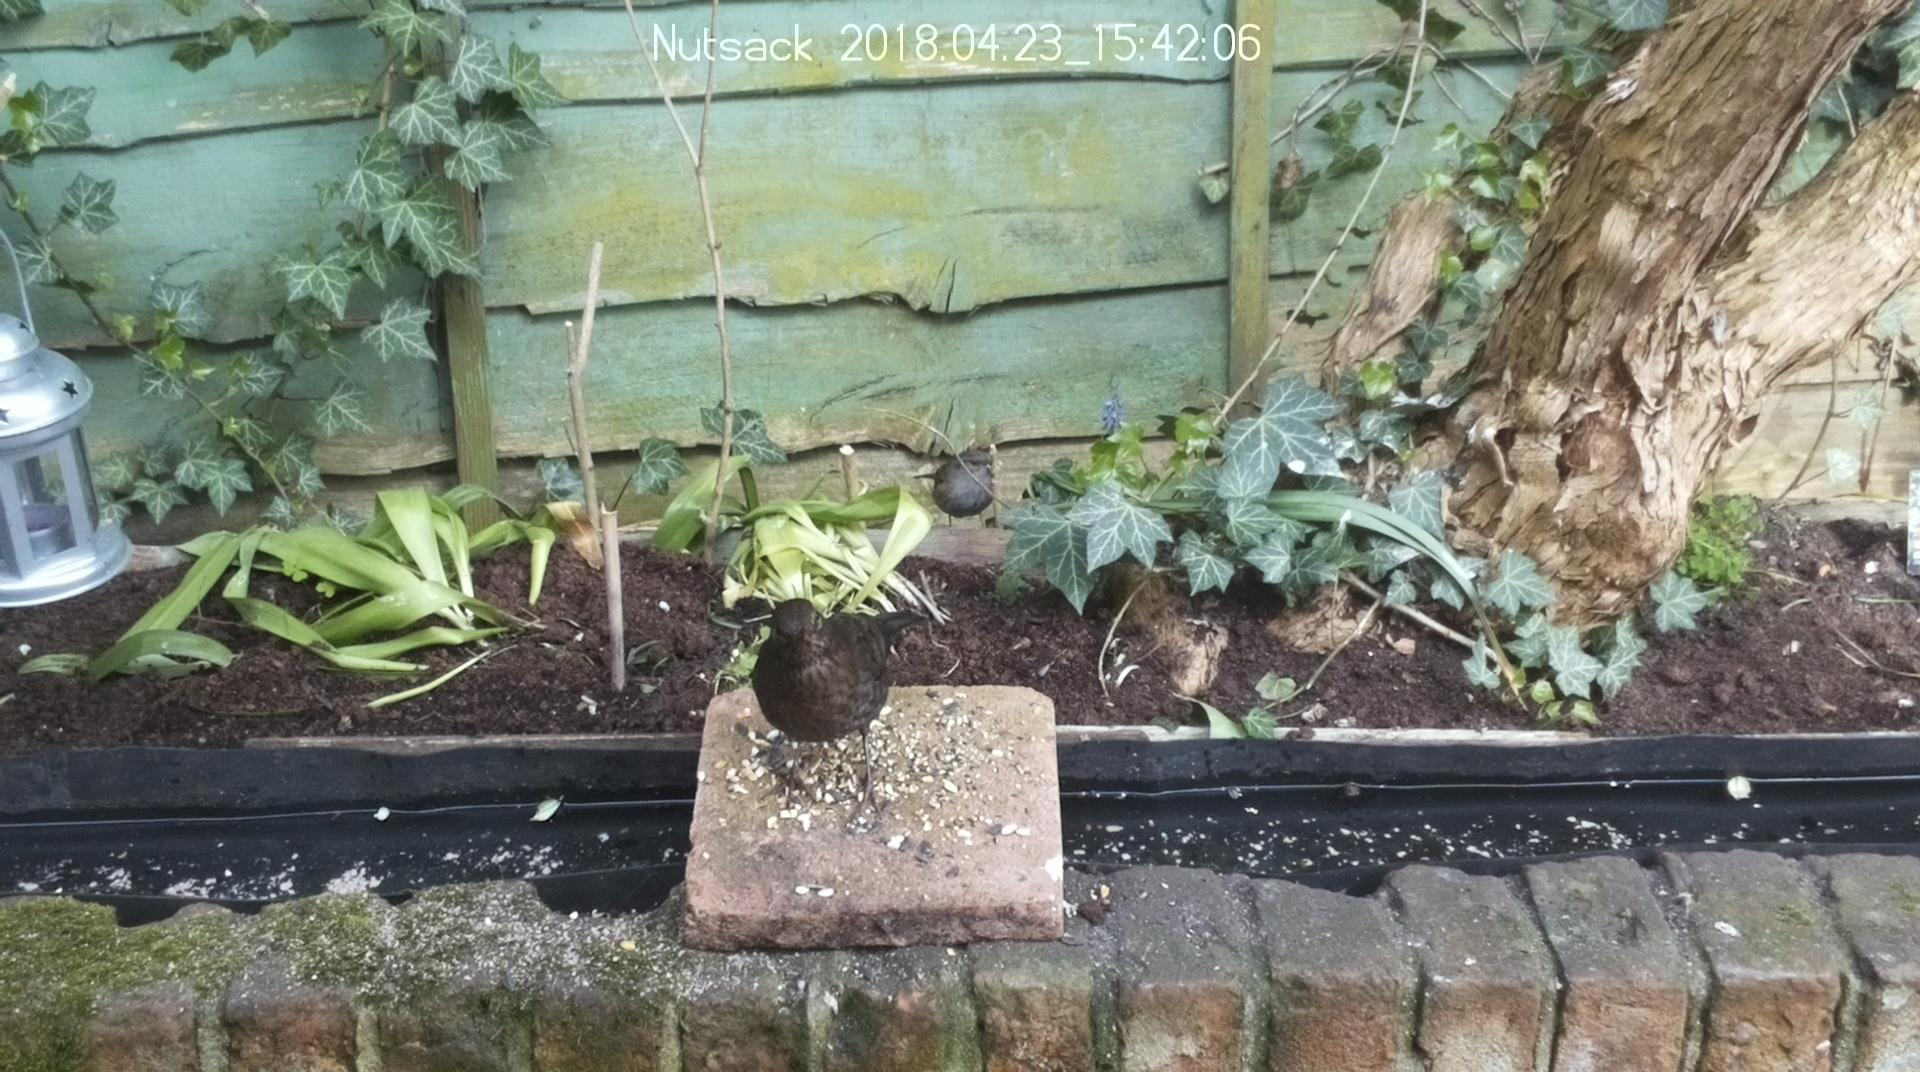blackbird: (749, 599, 924, 819)
sparrow: (913, 451, 992, 527)
